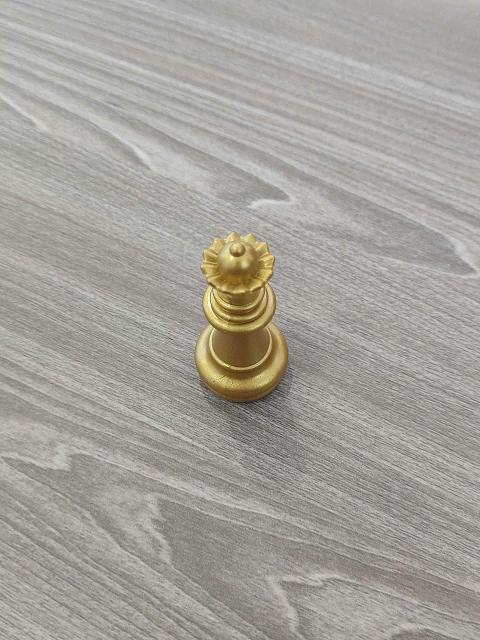black_queen: (191, 225, 295, 405)
